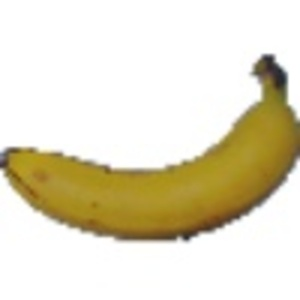banana: (2, 49, 300, 239)
